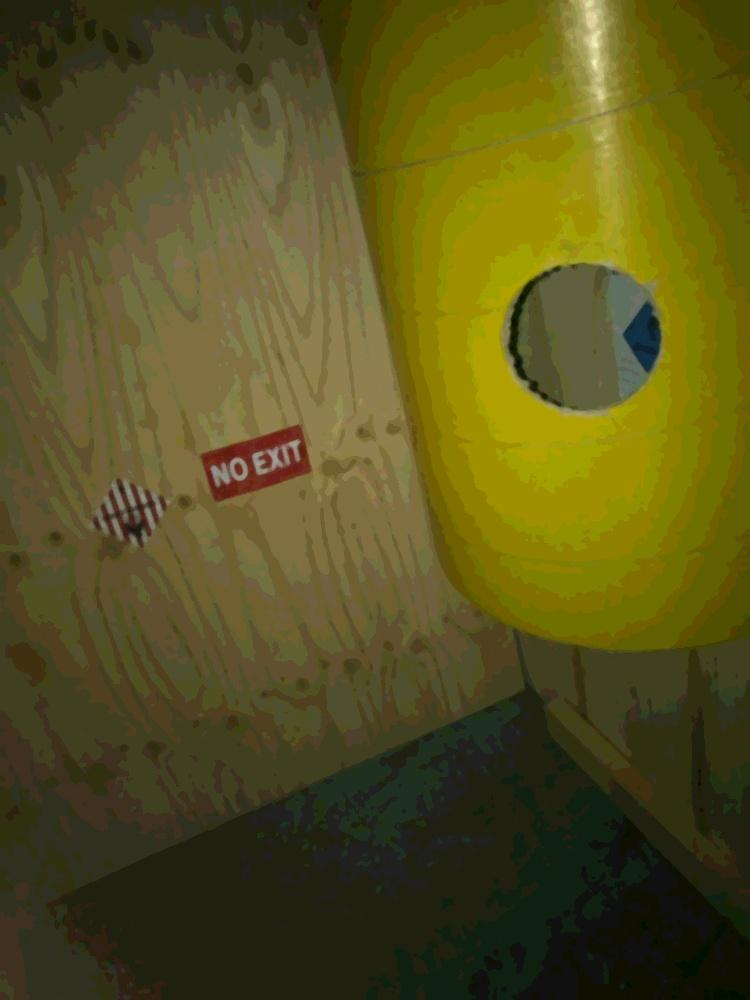dangerous-when-wet: (621, 305, 660, 390)
flammable-solid: (85, 484, 167, 552)
